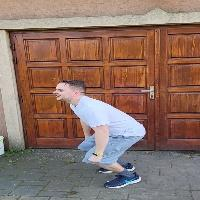high_jumps: (47, 76, 163, 193)
